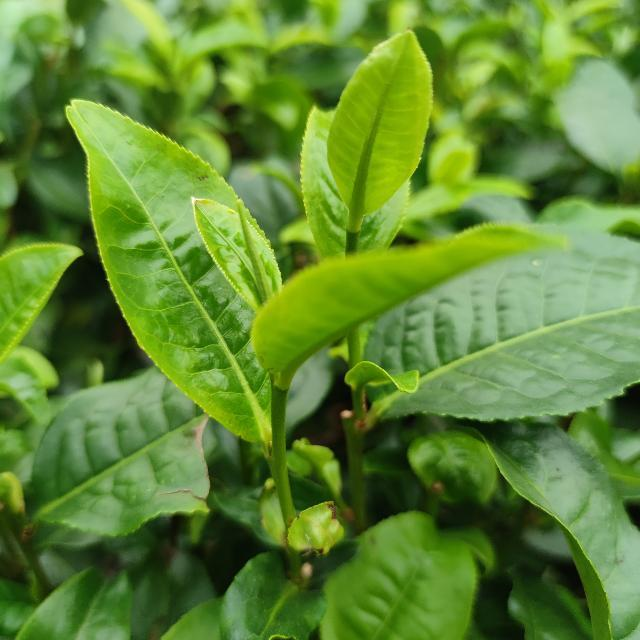Stem: (272, 390, 287, 411)
